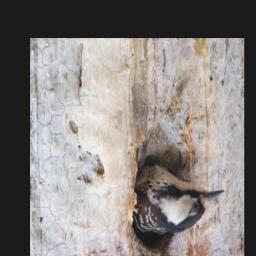Woodpecker: (135, 161, 223, 240)
